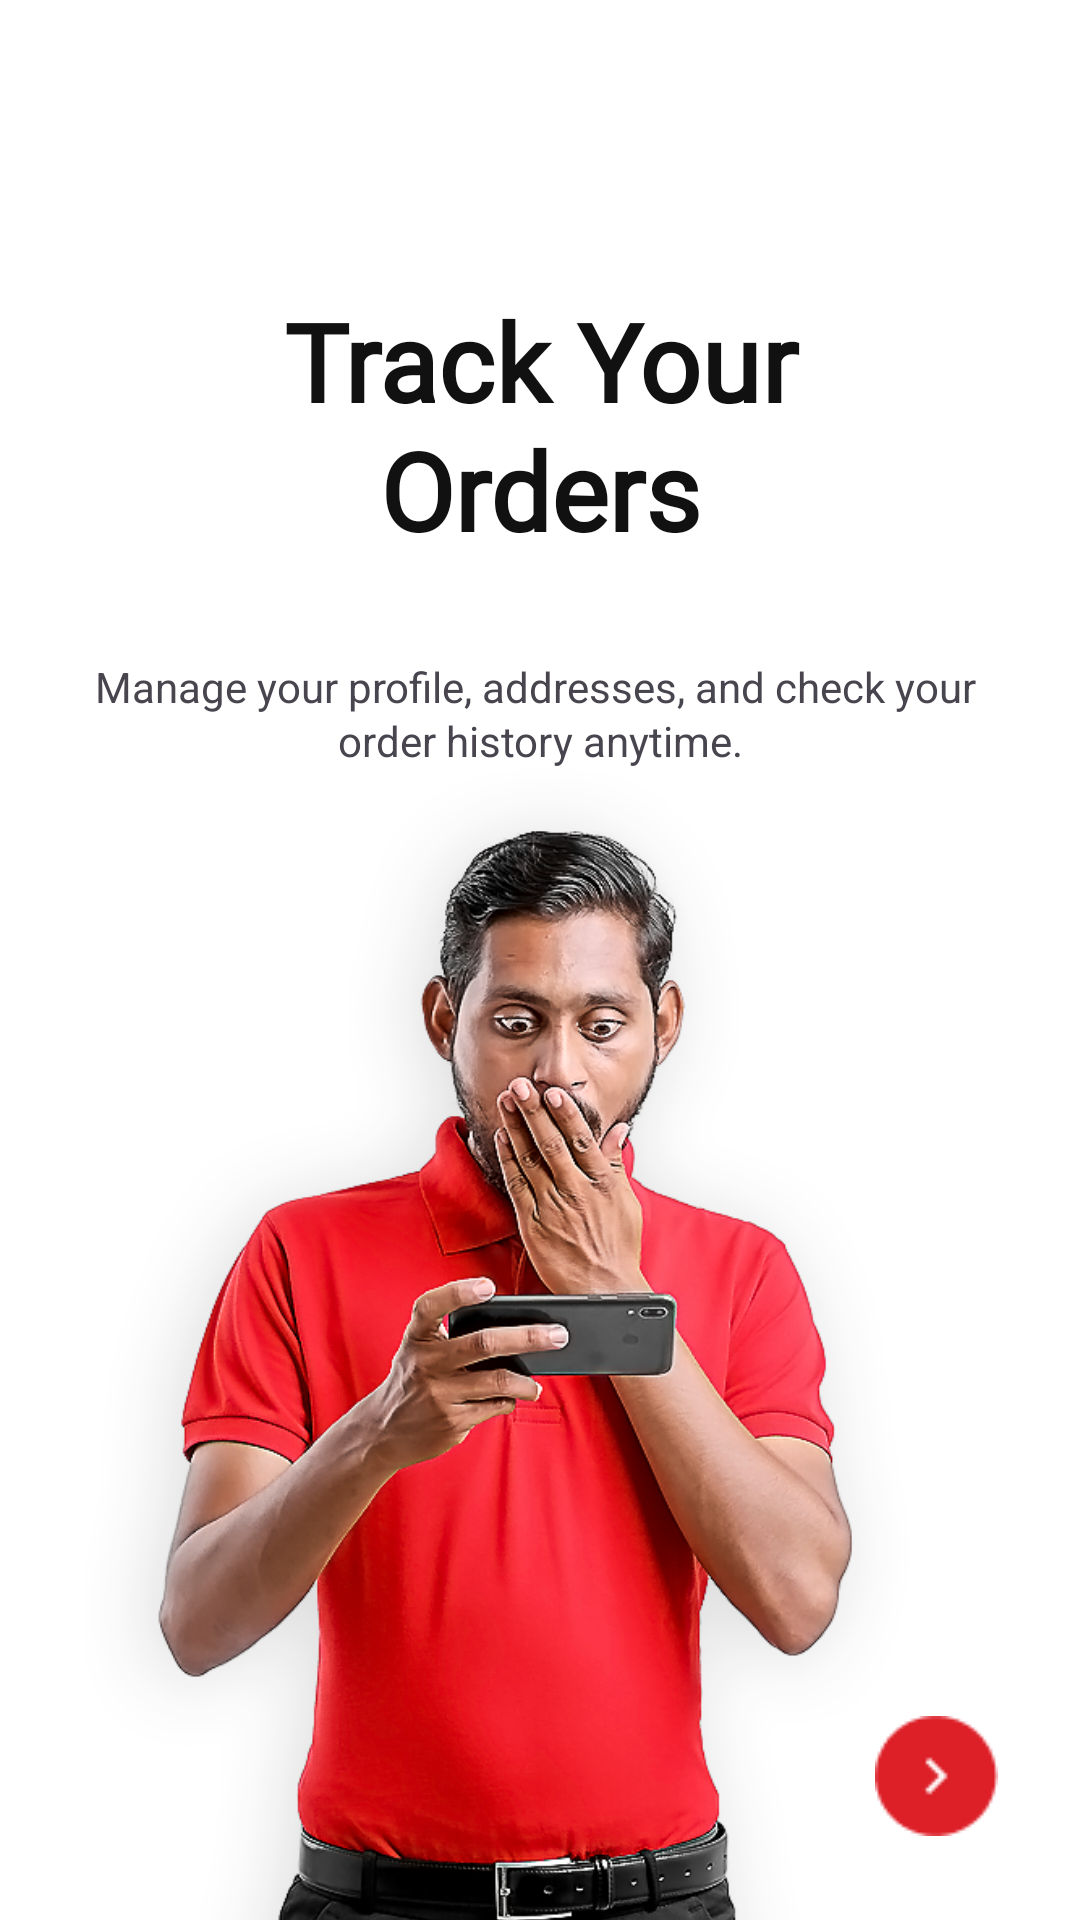

Where icons sit on this 1080 x 1920 app screen, as (x1, y1, x2, y2):
Next: (875, 1716, 998, 1836)
